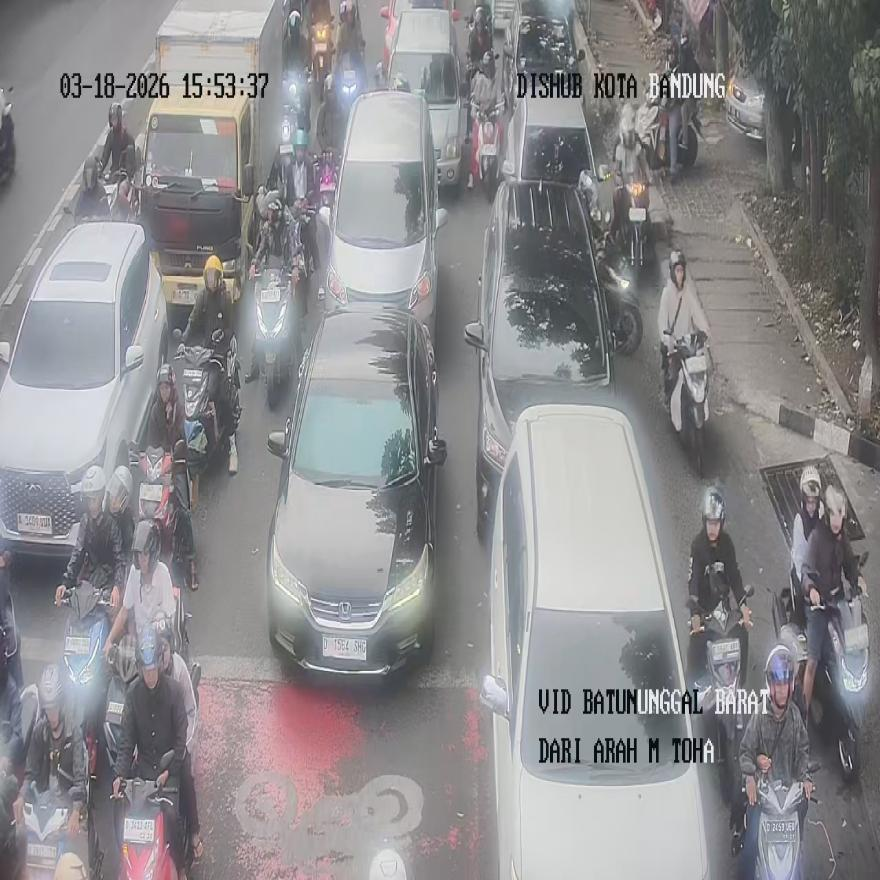Motor: (479, 403, 710, 877), (266, 306, 446, 678), (0, 221, 168, 556), (464, 178, 620, 536), (136, 1, 283, 308), (320, 89, 447, 358), (384, 8, 466, 190), (504, 0, 586, 112)
Truk: (688, 586, 754, 800), (20, 731, 102, 880), (813, 578, 869, 782), (731, 759, 820, 880), (172, 329, 241, 479), (111, 750, 187, 880), (60, 577, 115, 731), (250, 262, 300, 408), (662, 331, 710, 477), (643, 66, 701, 178), (128, 440, 178, 560), (62, 164, 138, 226), (474, 103, 501, 198), (624, 178, 650, 272), (309, 16, 336, 99), (0, 86, 15, 184)
